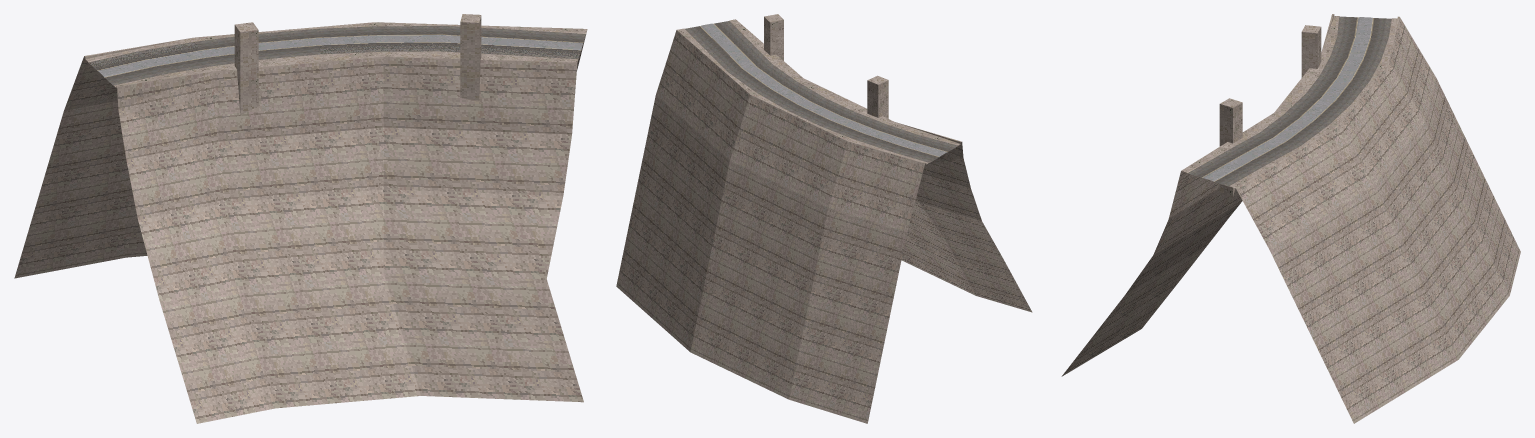
File: damlodbit1.obj
3 renders of one model, left to right at view 1: azimuth 30°, elevation 25°; view 2: azimuth 150°, elevation 25°; view 3: azimuth 270°, elevation 25°, orthographic. The views are drawn at different scales.
Parts seen in each view (by area): view 1: damlodbit1; view 2: damlodbit1; view 3: damlodbit1.
Part boxes in pixels (box(x1,y1,x2,y2)): damlodbit1: box(14, 14, 587, 423); damlodbit1: box(616, 14, 1032, 423); damlodbit1: box(1061, 14, 1520, 423).
Size of the model in its own units: 185 by 131 by 203.
Materials: 4 (4 with a texture image).
